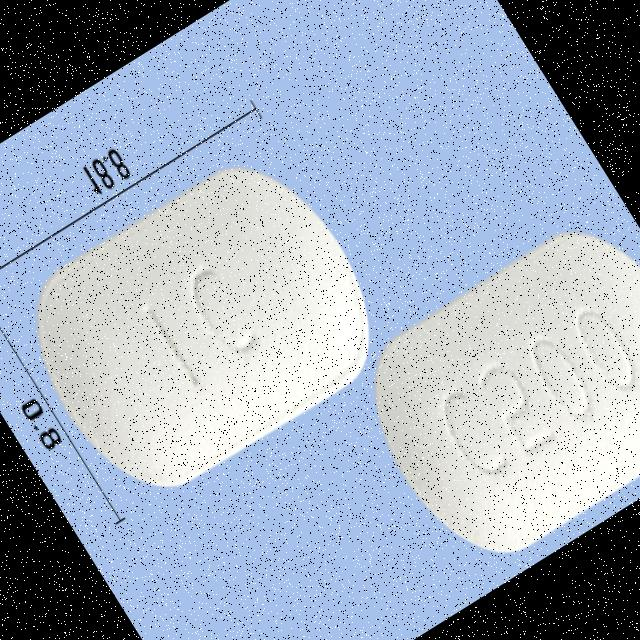Ciroctan: (0, 127, 412, 525), (328, 190, 640, 592)
